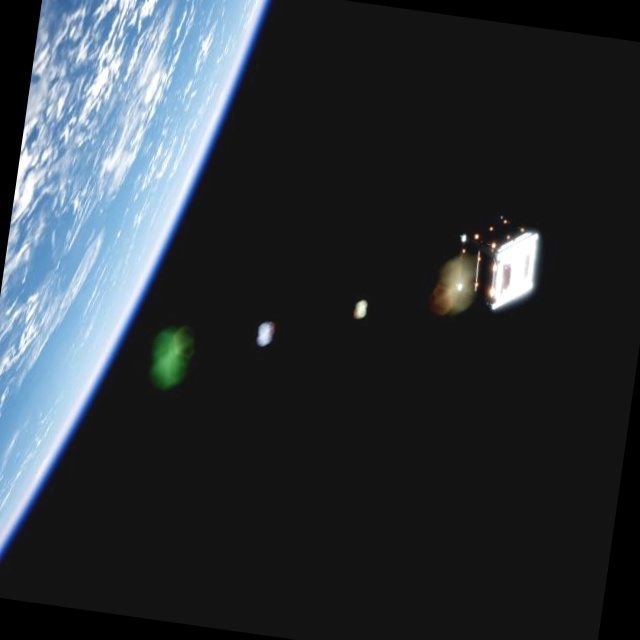medium_debris: (446, 206, 546, 323)
